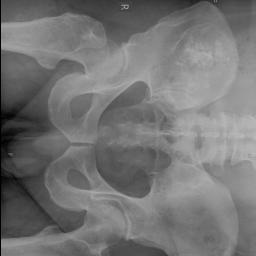cancer: (170, 28, 237, 72)
